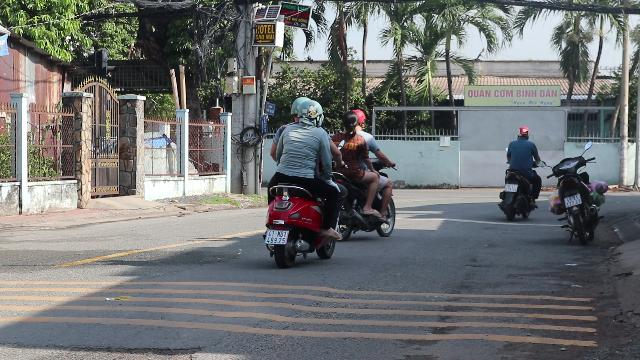helmet: (300, 99, 324, 126), (290, 96, 310, 120), (352, 110, 366, 126)
licenseplate: (264, 230, 288, 244)
motorcyclist: (258, 94, 346, 268), (333, 108, 397, 240)
nohelmet: (340, 112, 358, 132)
